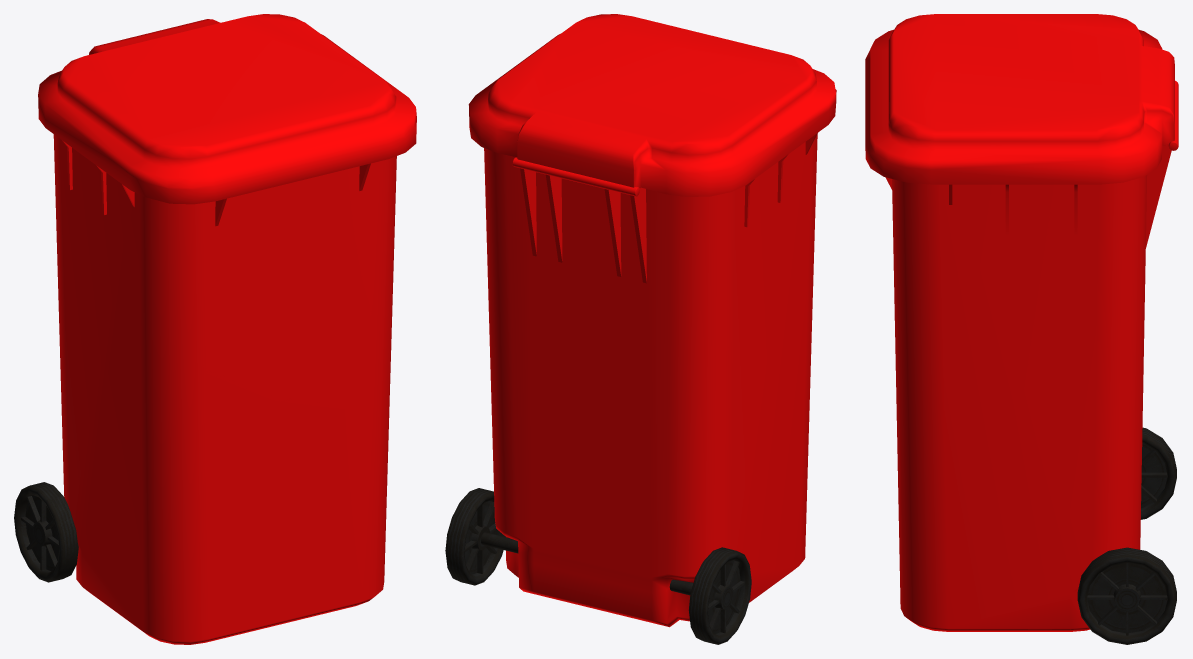
The model's file is overflowing.glb.
3 renders of one model, left to right at view 1: azimuth 30°, elevation 25°; view 2: azimuth 150°, elevation 25°; view 3: azimuth 270°, elevation 25°, orthographic. The views are drawn at different scales.
Parts seen in each view (by area): view 1: polySurface52; view 2: polySurface52; view 3: polySurface52.
Part boxes in pixels (x1,y1,x2,y2): polySurface52: (14, 14, 416, 644); polySurface52: (445, 14, 836, 644); polySurface52: (865, 14, 1178, 644).
Bounding box in the file's own units: 77 × 134 × 74.63.
2 materials, 2 textured.
